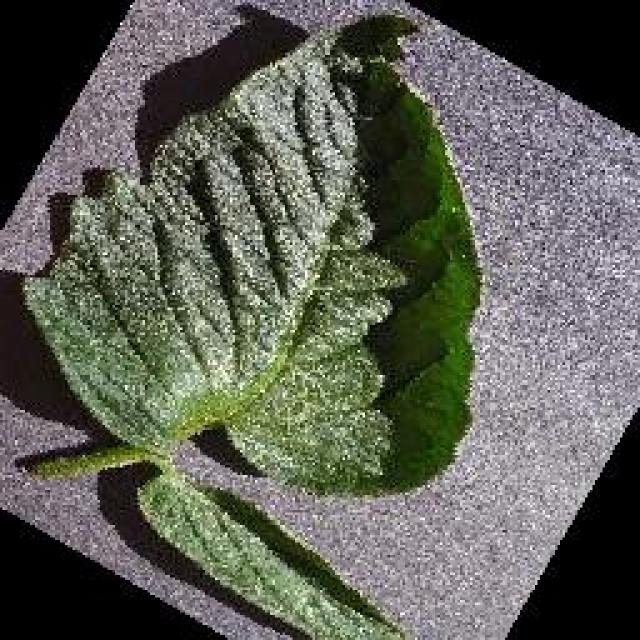Tomato___healthy: (13, 6, 489, 638)
